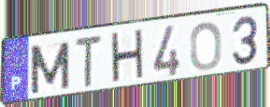3: (231, 13, 260, 68)
4: (151, 22, 182, 79)
H: (109, 26, 147, 87)
M: (28, 39, 72, 97)
O: (188, 20, 223, 72)
T: (74, 34, 104, 91)
